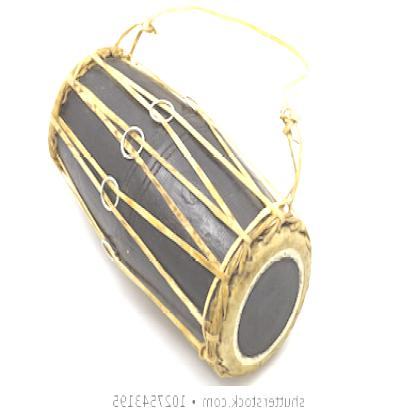Mridangam: (24, 36, 319, 382)
